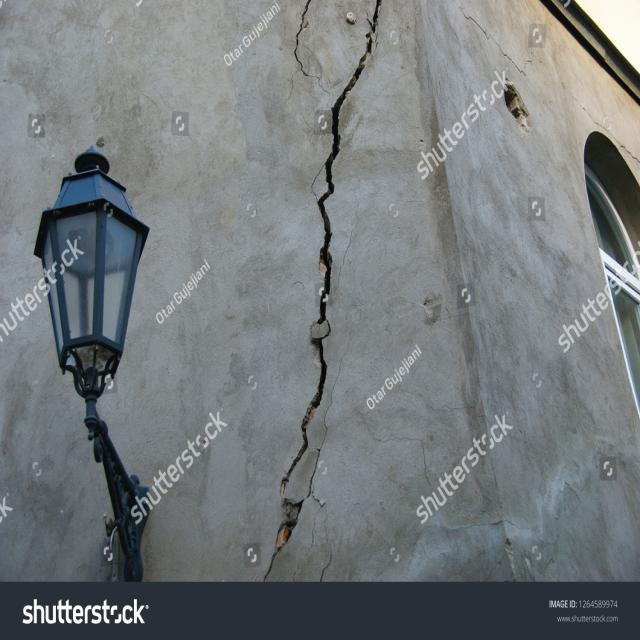crack: (260, 0, 384, 579), (412, 31, 508, 567), (320, 4, 383, 126), (457, 5, 530, 80), (310, 125, 342, 204), (294, 1, 320, 80), (361, 2, 383, 58)
